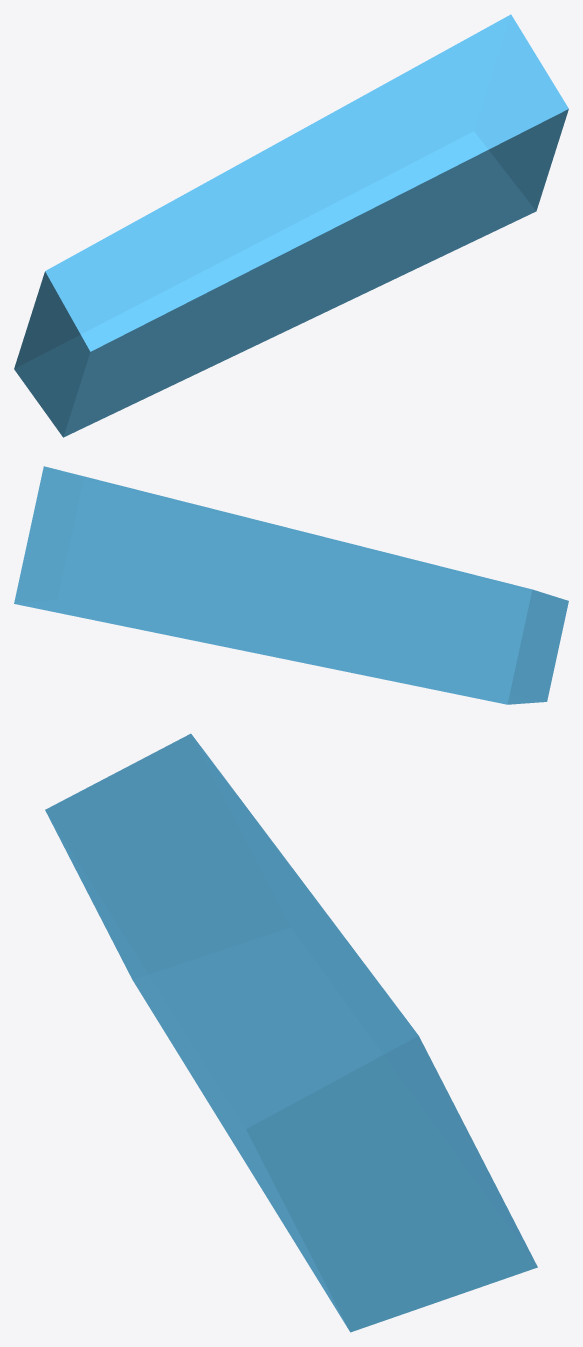
The model's file is Event_421115418_HErechit_51.fbx.
The picture shows the model from 3 angles, top to bottom: view 1: azimuth 30°, elevation 25°; view 2: azimuth 150°, elevation 25°; view 3: azimuth 270°, elevation 25°; orthographic projection. The views are drawn at different scales.
Parts seen in each view (by area): view 1: Model; view 2: Model; view 3: Model.
Boxes of the visible parts, x1,y1,x2,y2 form: Model: (14, 14, 568, 437); Model: (14, 466, 568, 704); Model: (45, 733, 537, 1332).
Size of the model in its own units: 1.99 by 0.798 by 0.9754.
